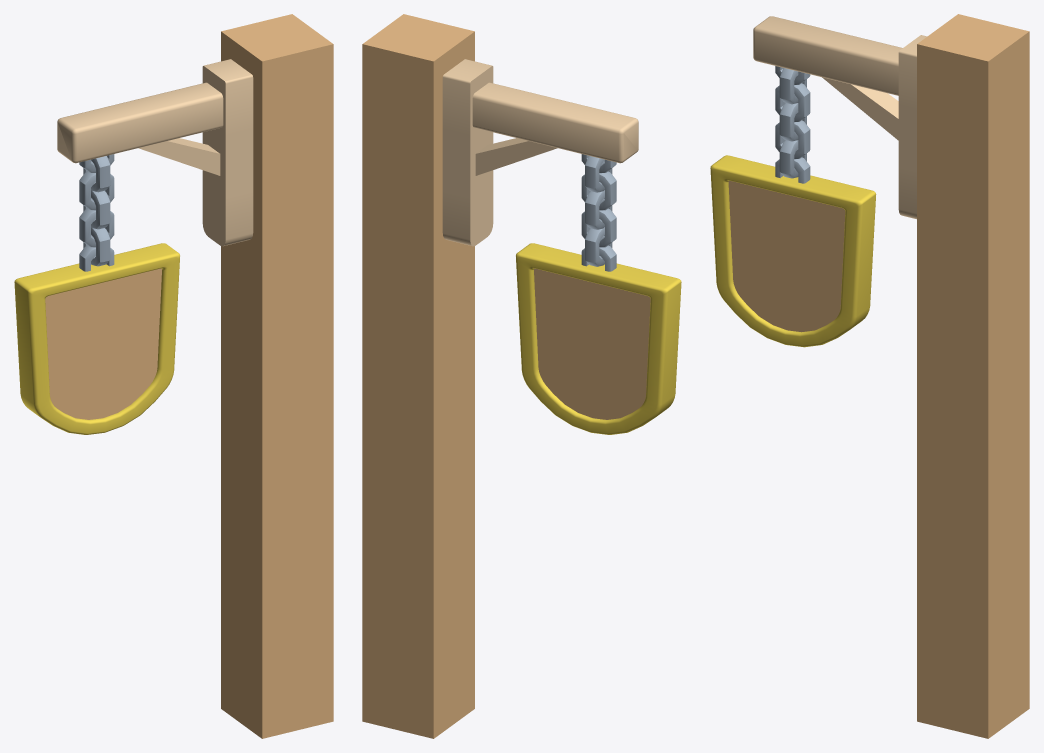
Rendered from WodenPillar.fbx.
3 views of the same model, side by side, from view 1: azimuth 30°, elevation 25°; view 2: azimuth 150°, elevation 25°; view 3: azimuth 330°, elevation 25° (orthographic).
Parts seen in each view (by area): view 1: Cube.017; view 2: Cube.017; view 3: Cube.017.
Boxes of the visible parts, x1,y1,x2,y2 form: Cube.017: (14, 14, 333, 738); Cube.017: (362, 14, 681, 738); Cube.017: (710, 14, 1029, 738).
Size of the model in its own units: 81.05 by 180 by 19.81.
Materials: 1 (1 with a texture image).
